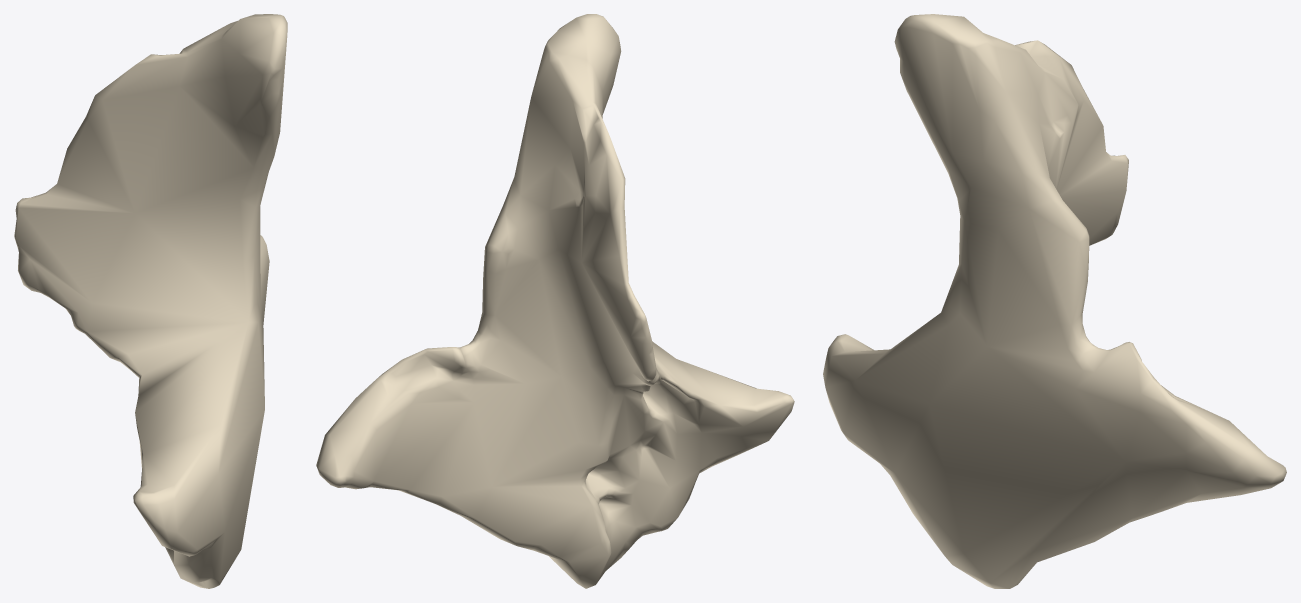
Rendered from zygomatic-bone-l.glb.
The picture shows the model from 3 angles, left to right: view 1: azimuth 30°, elevation 25°; view 2: azimuth 150°, elevation 25°; view 3: azimuth 270°, elevation 25°; orthographic projection. The views are drawn at different scales.
Visible parts, largest first — view 1: Zygomatic bone.l; view 2: Zygomatic bone.l; view 3: Zygomatic bone.l.
Boxes of the visible parts, box(x1,y1,x2,y2) form: Zygomatic bone.l: box(14, 14, 287, 588); Zygomatic bone.l: box(316, 14, 794, 588); Zygomatic bone.l: box(823, 14, 1286, 588).
Bounding box in the file's own units: 0.0307 × 0.0547 × 0.039.
